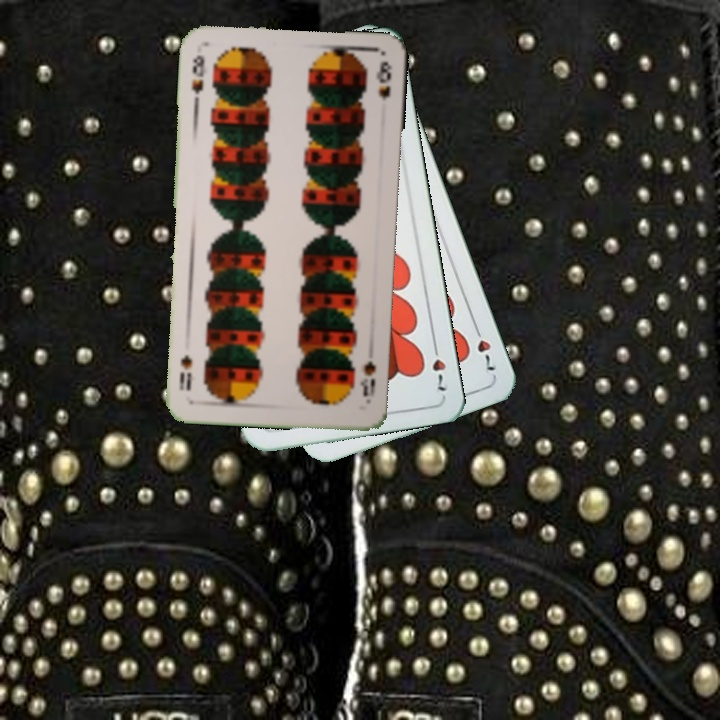H7: (469, 320, 498, 374), (428, 338, 449, 394)
S8: (188, 51, 210, 96), (356, 357, 378, 400)
